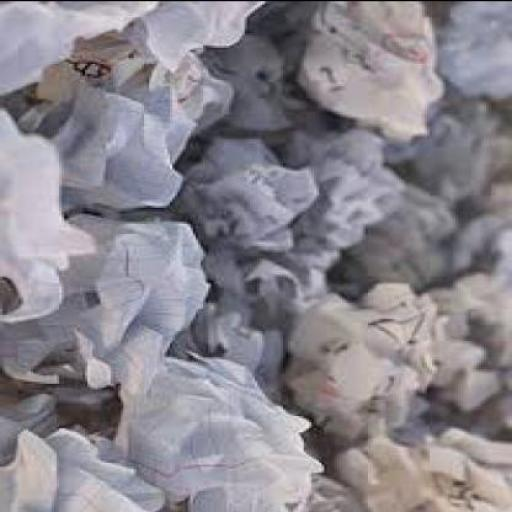paper: (3, 211, 214, 395), (15, 45, 237, 209), (115, 348, 324, 510), (290, 277, 456, 437), (2, 95, 104, 314), (263, 127, 409, 275), (302, 2, 452, 140), (170, 257, 332, 383), (201, 6, 329, 164), (2, 395, 172, 510), (314, 424, 511, 510), (416, 266, 511, 436), (2, 1, 165, 91), (196, 134, 326, 246), (338, 178, 456, 297), (110, 1, 273, 69), (409, 89, 507, 198), (444, 2, 511, 98), (118, 61, 203, 105)
